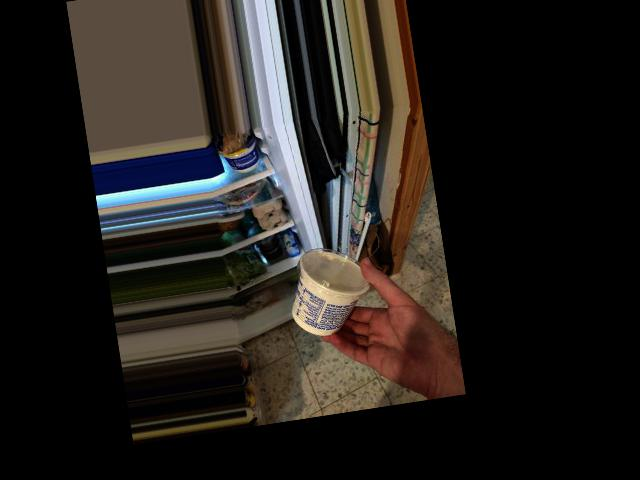cotage: (285, 239, 370, 332)
